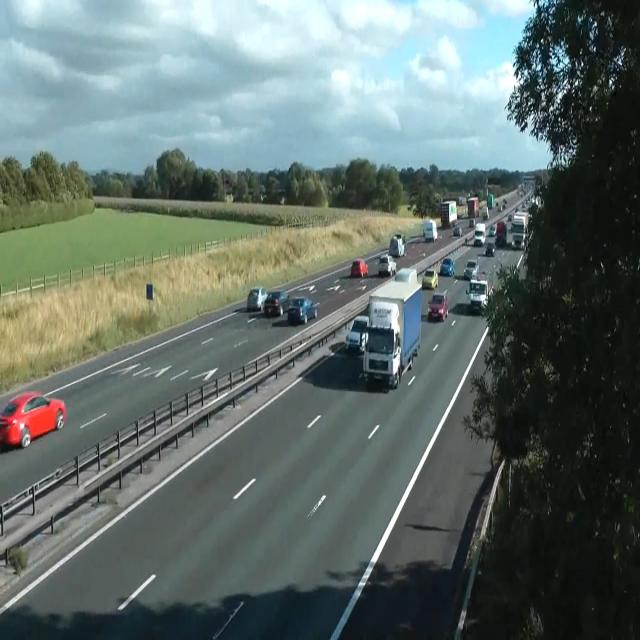bus: (0, 391, 66, 449), (345, 315, 369, 352), (428, 291, 448, 321), (246, 286, 268, 312), (378, 254, 396, 276), (422, 268, 438, 290), (350, 258, 368, 277), (464, 259, 478, 279), (440, 257, 454, 276), (484, 240, 496, 256), (511, 233, 523, 249), (488, 224, 496, 236), (453, 226, 462, 236), (278, 196, 286, 204)
jeep: (287, 296, 317, 324), (263, 289, 289, 316), (466, 278, 488, 308), (394, 267, 418, 285), (494, 220, 506, 246), (473, 222, 485, 246)
minibus: (362, 267, 422, 388), (511, 210, 529, 250), (440, 200, 457, 228), (422, 218, 438, 242), (390, 234, 406, 257), (467, 196, 479, 218), (486, 193, 494, 208), (481, 206, 489, 220)
